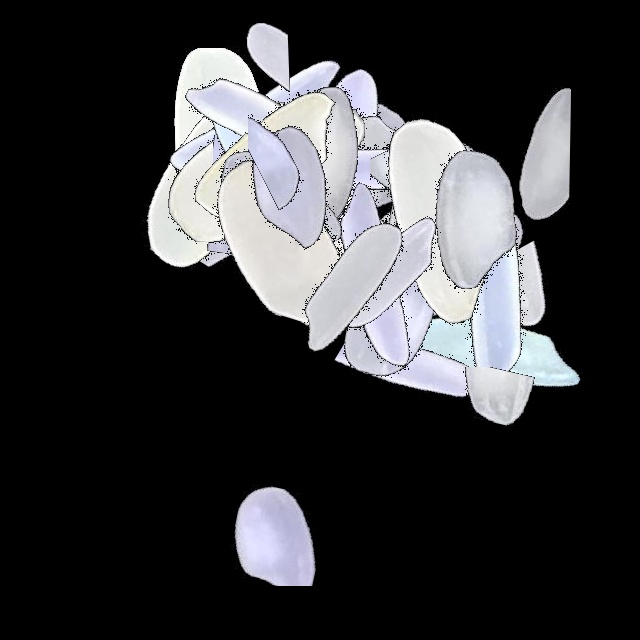Broken: (297, 293, 547, 465), (178, 90, 428, 259), (161, 419, 411, 586), (286, 91, 447, 341), (174, 75, 334, 325), (248, 41, 498, 198), (251, 181, 501, 336), (370, 81, 521, 331), (182, 63, 432, 208), (237, 0, 381, 250), (280, 16, 424, 266), (375, 82, 625, 221), (476, 187, 611, 437), (192, 97, 442, 228), (175, 37, 301, 287), (213, 28, 336, 278), (248, 9, 366, 259), (202, 222, 452, 335), (357, 367, 607, 478), (131, 149, 381, 257), (110, 17, 360, 124), (327, 131, 425, 381), (317, 262, 567, 356), (244, 61, 327, 311)
Full: (297, 164, 547, 414), (322, 109, 572, 359), (361, 232, 611, 482), (238, 28, 488, 278), (210, 46, 460, 296), (93, 19, 343, 269), (168, 101, 418, 351), (121, 60, 371, 310), (90, 48, 340, 298), (135, 0, 385, 250), (140, 46, 390, 296), (267, 189, 517, 439), (146, 0, 396, 250), (176, 98, 426, 348), (364, 169, 614, 419), (253, 150, 503, 400), (169, 62, 419, 312), (315, 95, 565, 345), (192, 34, 442, 284), (349, 94, 599, 344), (149, 33, 399, 283), (151, 78, 401, 328), (165, 118, 415, 368), (168, 64, 418, 314), (262, 150, 512, 400), (228, 162, 478, 412)
